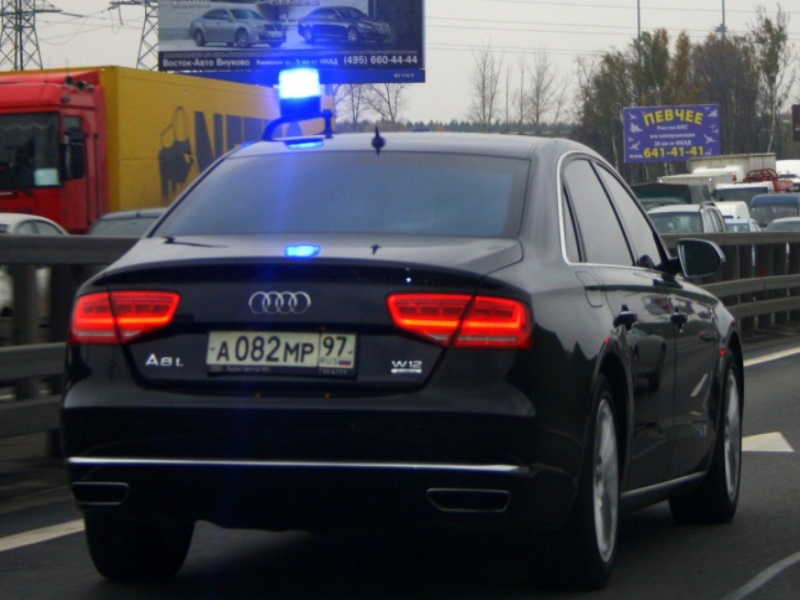car: (62, 130, 747, 592), (1, 68, 336, 234), (192, 8, 286, 49), (297, 6, 392, 44), (644, 204, 726, 235)
plate: (205, 331, 354, 367)
